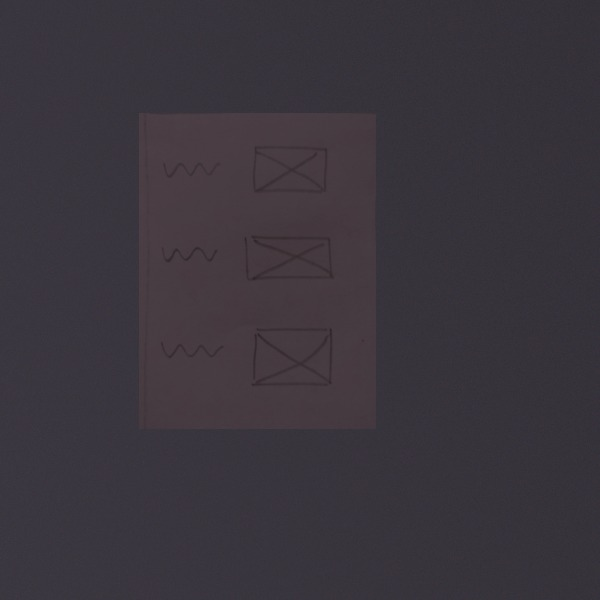image: (247, 325, 337, 392), (241, 229, 339, 287), (248, 139, 331, 199)
text: (156, 333, 227, 363), (159, 152, 223, 185), (158, 235, 222, 268)
